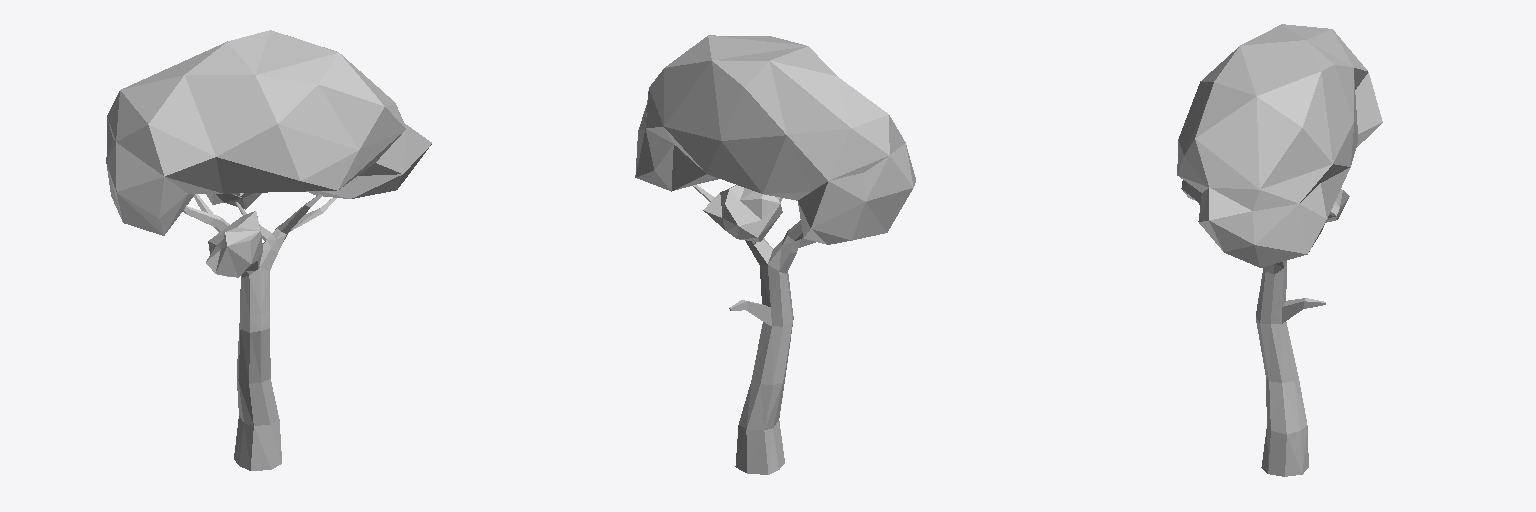
File: arbre_europeen_A (1).obj
3 views of the same model, side by side, from view 1: azimuth 30°, elevation 25°; view 2: azimuth 150°, elevation 25°; view 3: azimuth 270°, elevation 25° (orthographic).
Parts seen in each view (by area): view 1: arbreuh; view 2: arbreuh; view 3: arbreuh.
Part boxes in pixels (x1,y1,x2,y2): arbreuh: (106, 30, 431, 470); arbreuh: (635, 35, 915, 474); arbreuh: (1177, 24, 1382, 476).
Size of the model in its own units: 2.81 by 3.94 by 1.76.